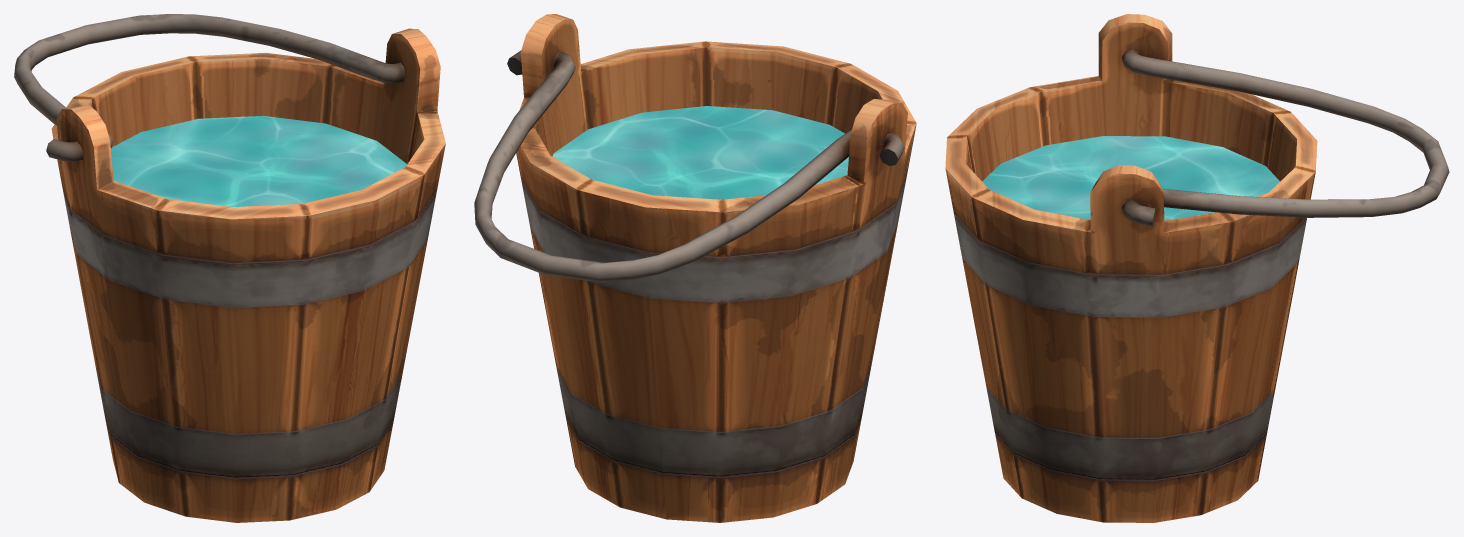
Rendered from BucketWooden01_2.FBX.
3 renders of one model, left to right at view 1: azimuth 30°, elevation 25°; view 2: azimuth 150°, elevation 25°; view 3: azimuth 270°, elevation 25°, orthographic. The views are drawn at different scales.
Visible parts, largest first — view 1: BucketWooden01_2; view 2: BucketWooden01_2; view 3: BucketWooden01_2.
Boxes of the visible parts, x1,y1,x2,y2 form: BucketWooden01_2: (14, 14, 445, 522); BucketWooden01_2: (474, 14, 916, 522); BucketWooden01_2: (945, 14, 1449, 522).
Size of what is drawn, in the model's own units: 0.4855 by 0.477 by 0.5813.
